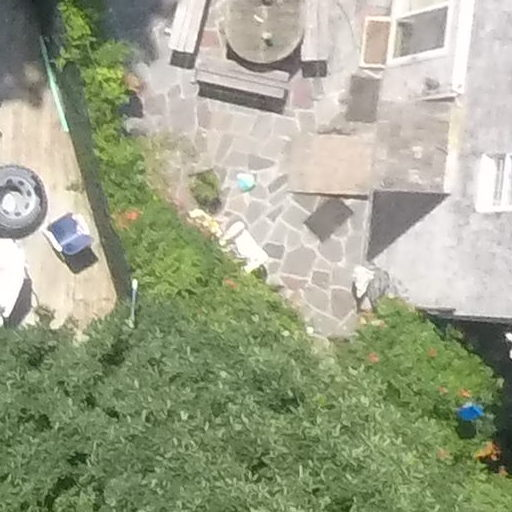chair: (44, 202, 114, 265)
table: (217, 1, 300, 72)
toy: (1, 149, 58, 240), (236, 164, 261, 196)
